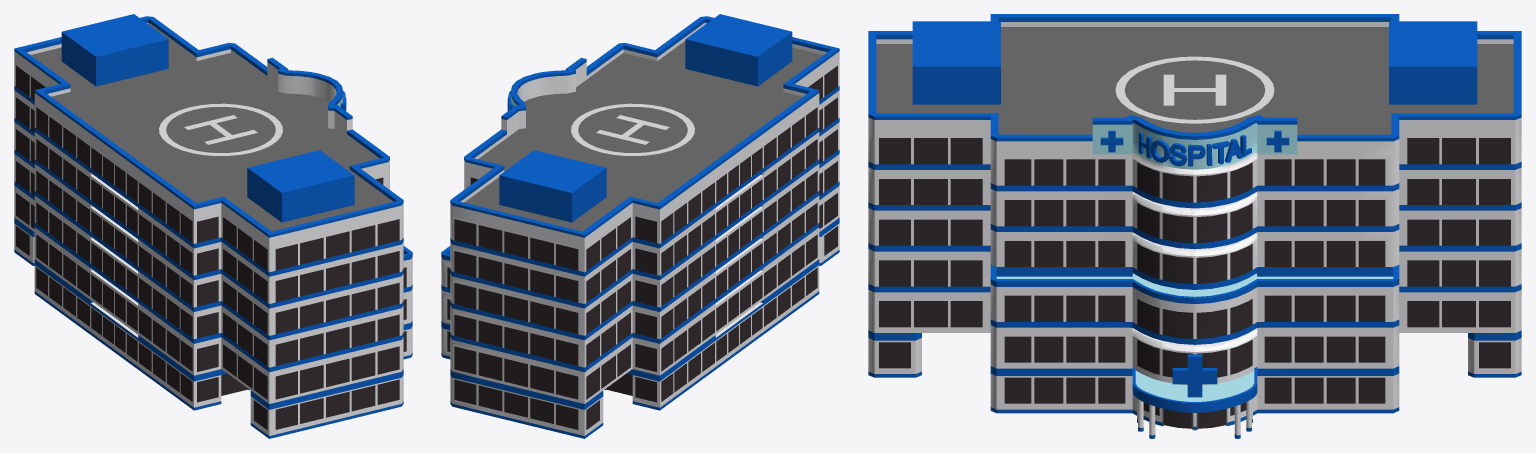
The model's file is Hospital1.fbx.
3 renders of one model, left to right at view 1: azimuth 30°, elevation 25°; view 2: azimuth 150°, elevation 25°; view 3: azimuth 270°, elevation 25°, orthographic. The views are drawn at different scales.
Visible parts, largest first — view 1: PublicBuilding_Hospital; view 2: PublicBuilding_Hospital; view 3: PublicBuilding_Hospital.
Boxes of the visible parts, x1,y1,x2,y2 form: PublicBuilding_Hospital: (14, 14, 412, 438); PublicBuilding_Hospital: (441, 14, 839, 438); PublicBuilding_Hospital: (868, 14, 1521, 438).
Size of what is drawn, in the model's own units: 1460 by 1127 by 2305.
